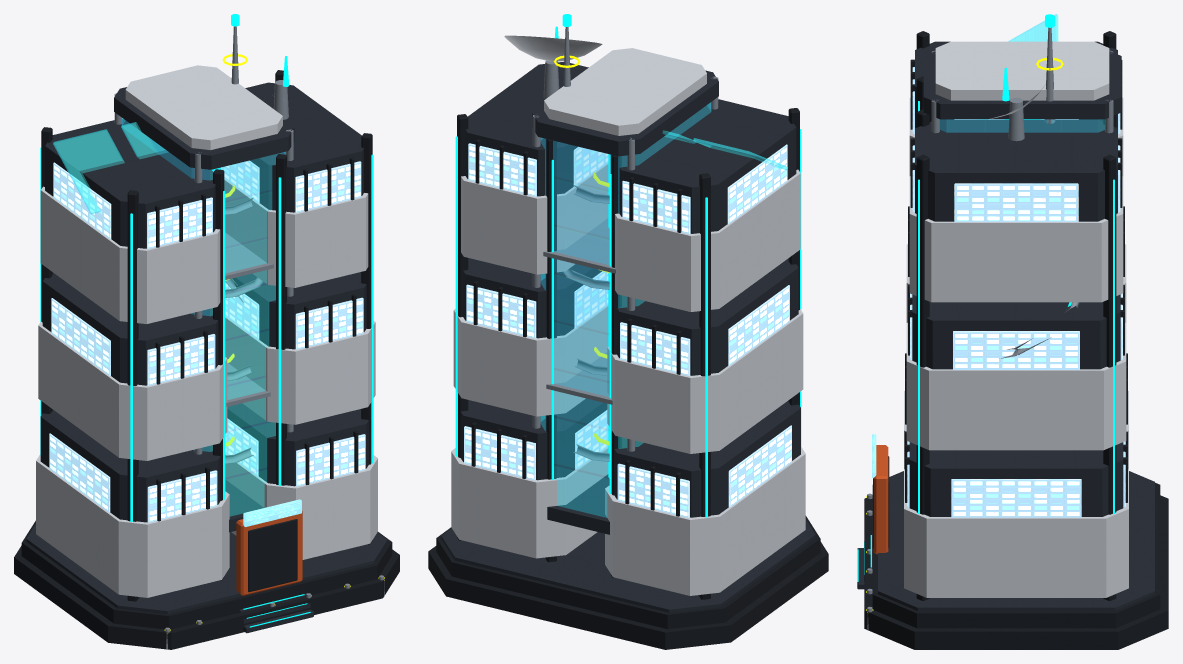
Rendered from bldg_15_r1_03.glb.
3 renders of one model, left to right at view 1: azimuth 30°, elevation 25°; view 2: azimuth 150°, elevation 25°; view 3: azimuth 270°, elevation 25°, orthographic. The views are drawn at different scales.
Parts seen in each view (by area): view 1: Bldg15_C03_aero_white, Bldg15_C03_carbon_slate, Bldg15_C03_gunmetal, Bldg15_C03_window_lit, Bldg15_C03_glass_cyan, Bldg15_C03_steel_machined, Bldg15_C03_led_cyan, Bldg15_C03_accent_orange, Bldg15_C03_marquee; view 2: Bldg15_C03_aero_white, Bldg15_C03_carbon_slate, Bldg15_C03_gunmetal, Bldg15_C03_window_lit, Bldg15_C03_glass_cyan, Bldg15_C03_steel_machined, Bldg15_C03_led_cyan; view 3: Bldg15_C03_aero_white, Bldg15_C03_carbon_slate, Bldg15_C03_gunmetal, Bldg15_C03_window_lit, Bldg15_C03_glass_cyan, Bldg15_C03_steel_machined, Bldg15_C03_led_cyan, Bldg15_C03_accent_orange.
Part boxes in pixels (left/top/right/bottom): Bldg15_C03_aero_white: left=36, top=65, right=377, bottom=597; Bldg15_C03_carbon_slate: left=26, top=82, right=387, bottom=633; Bldg15_C03_gunmetal: left=14, top=70, right=399, bottom=649; Bldg15_C03_window_lit: left=49, top=160, right=365, bottom=522; Bldg15_C03_glass_cyan: left=53, top=118, right=285, bottom=516; Bldg15_C03_steel_machined: left=114, top=26, right=384, bottom=649; Bldg15_C03_led_cyan: left=40, top=14, right=373, bottom=627; Bldg15_C03_accent_orange: left=236, top=510, right=302, bottom=595; Bldg15_C03_marquee: left=243, top=499, right=301, bottom=526; Bldg15_C03_aero_white: left=451, top=35, right=805, bottom=595; Bldg15_C03_carbon_slate: left=441, top=61, right=815, bottom=612; Bldg15_C03_gunmetal: left=428, top=108, right=828, bottom=649; Bldg15_C03_window_lit: left=464, top=143, right=791, bottom=517; Bldg15_C03_glass_cyan: left=540, top=102, right=787, bottom=517; Bldg15_C03_steel_machined: left=532, top=27, right=718, bottom=461; Bldg15_C03_led_cyan: left=455, top=14, right=801, bottom=517; Bldg15_C03_aero_white: left=904, top=41, right=1128, bottom=597; Bldg15_C03_carbon_slate: left=857, top=41, right=1154, bottom=610; Bldg15_C03_gunmetal: left=864, top=31, right=1168, bottom=649; Bldg15_C03_window_lit: left=907, top=67, right=1125, bottom=517; Bldg15_C03_glass_cyan: left=940, top=14, right=1104, bottom=132; Bldg15_C03_steel_machined: left=867, top=27, right=1113, bottom=630; Bldg15_C03_led_cyan: left=857, top=14, right=1114, bottom=581; Bldg15_C03_accent_orange: left=873, top=445, right=888, bottom=554.
Bounding box in the file's own units: 12 × 21.02 × 10.23.
Materials: 10 (10 with a texture image).
